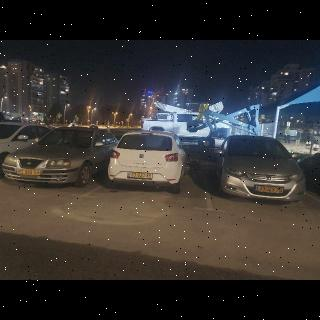LicensePlate: (258, 186, 283, 193), (130, 172, 152, 178), (19, 169, 40, 175)
